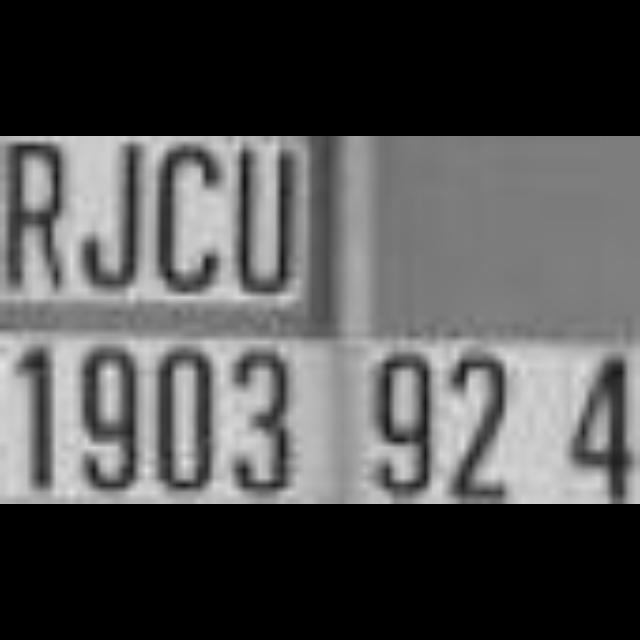0: (150, 339, 218, 499)
1: (7, 337, 67, 505)
2: (443, 343, 517, 504)
3: (226, 339, 298, 499)
4: (560, 350, 640, 504)
9: (75, 338, 142, 497), (368, 345, 437, 499)
c: (155, 136, 229, 300)
j: (75, 136, 149, 298)
r: (0, 136, 76, 300)
u: (231, 140, 301, 302)
